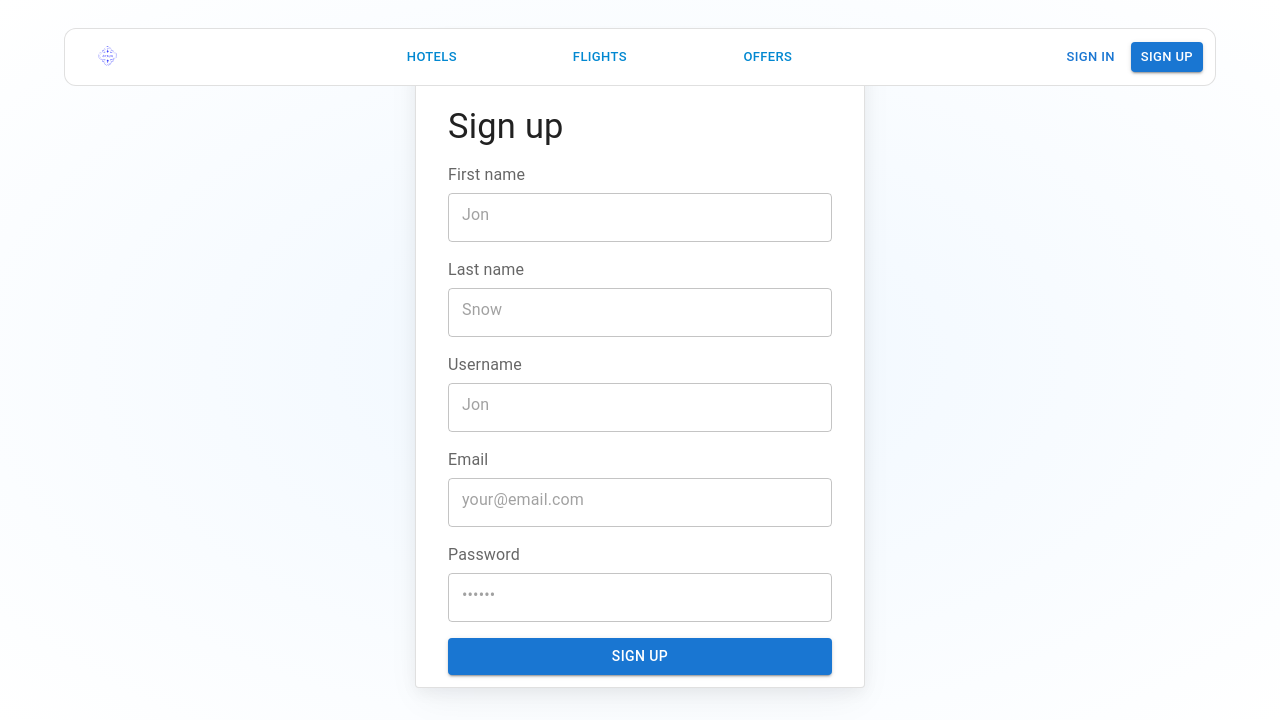
Test: User Sign Up › should display an error when trying to sign up with an existing email
Try to sign up with an already existing email
Type "Eva" into the field named "firstname" at (640, 215), box [448,187,832,243]
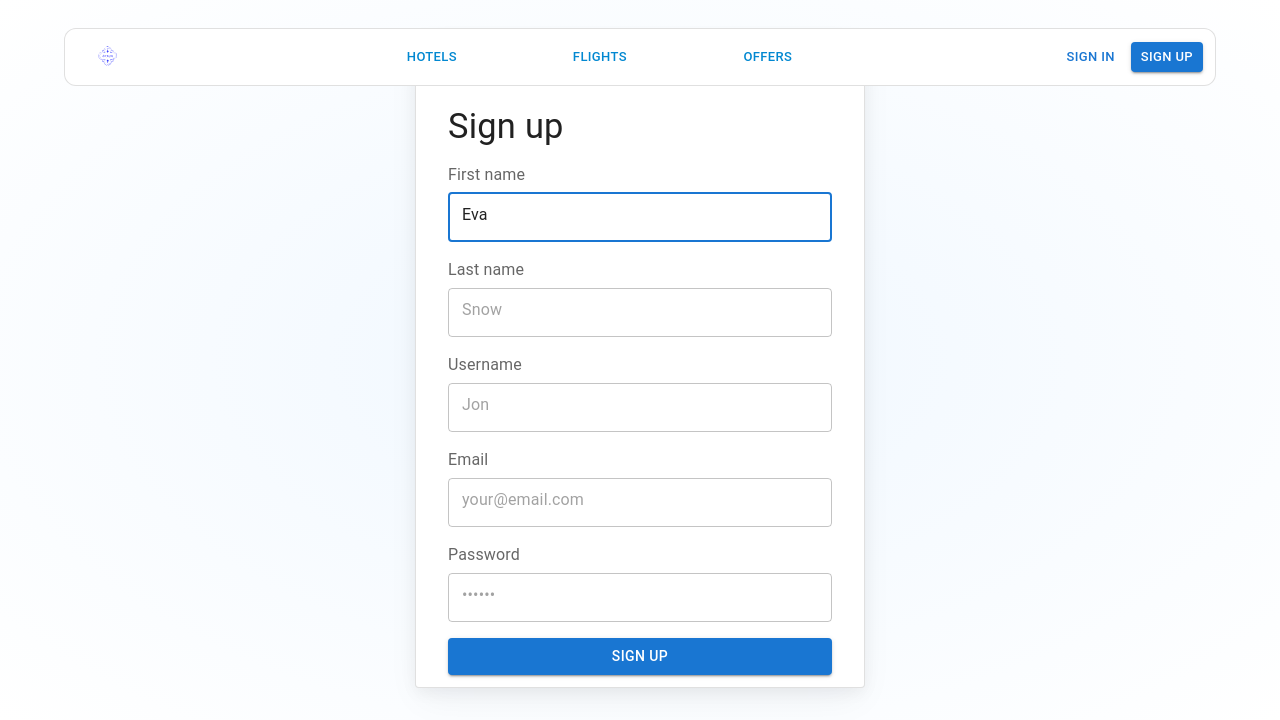
Type "Elfie" into the field named "lastname" at (640, 310), box [448,282,832,338]
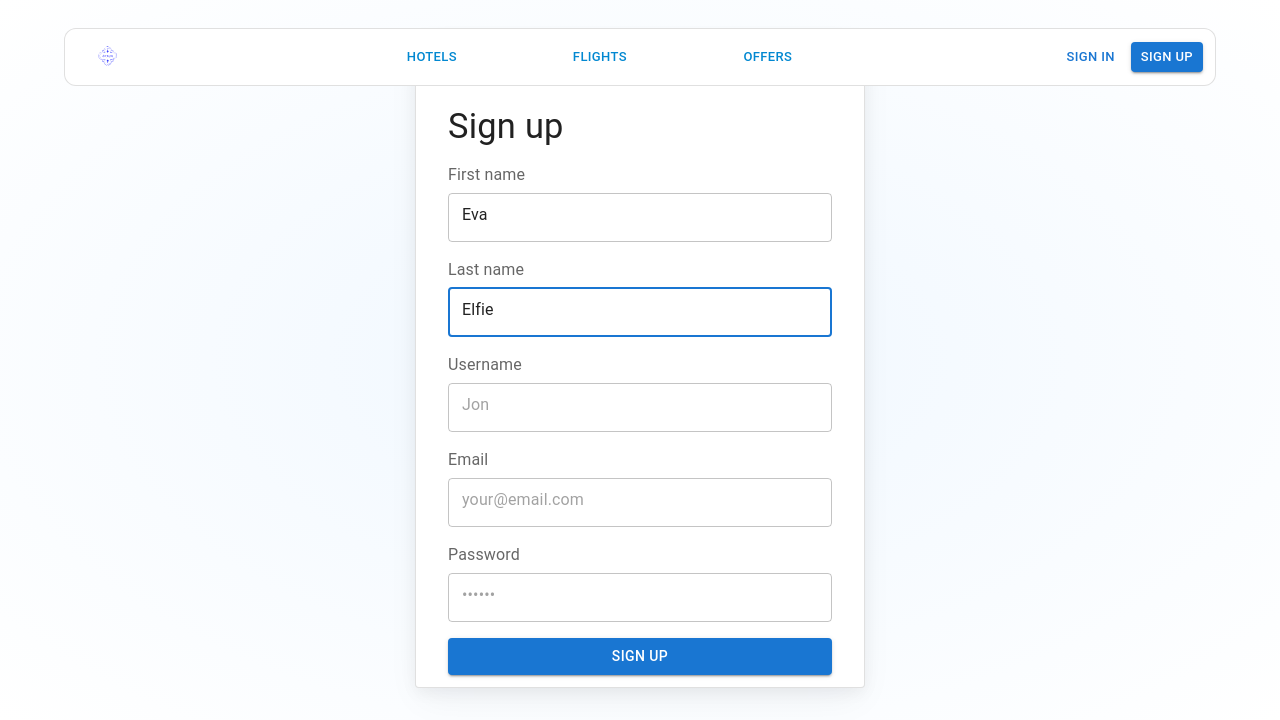
Type "Eva_Elfie" into the field named "pseudo" at (640, 405), box [448,377,832,433]
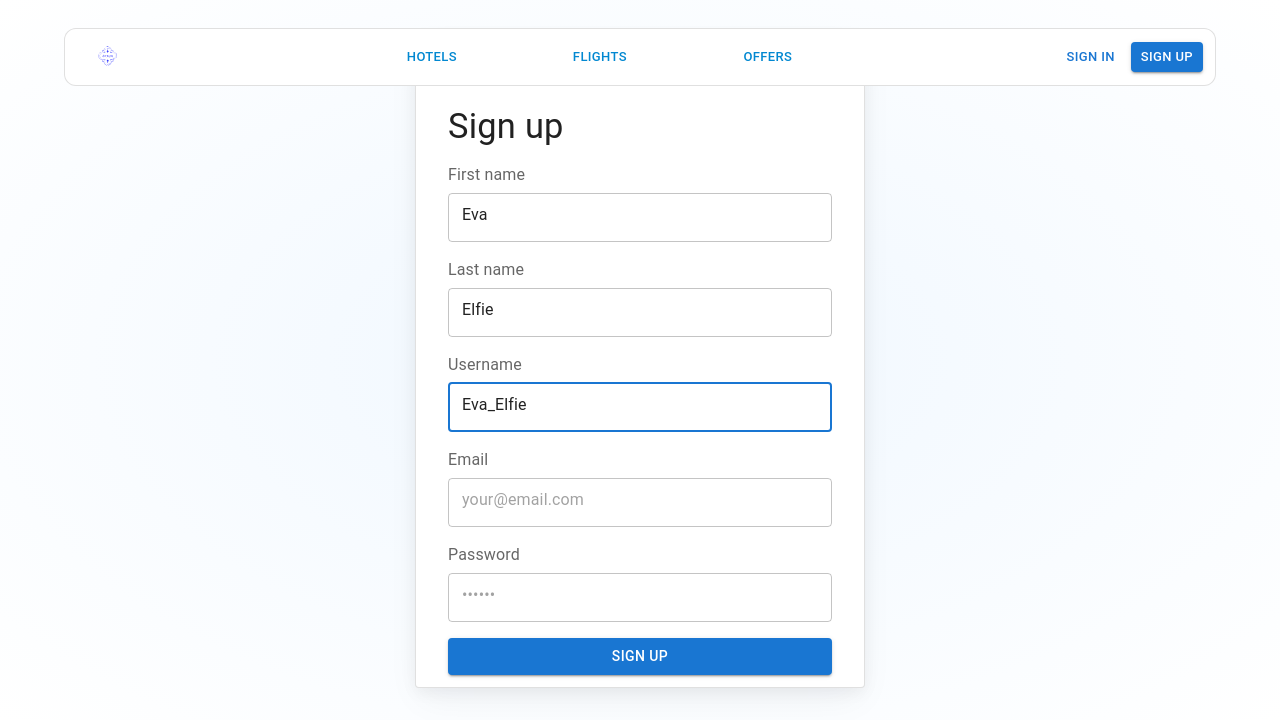
Type "Jhon.snow@example.com" into the field named "email" at (640, 500), box [448,472,832,528]
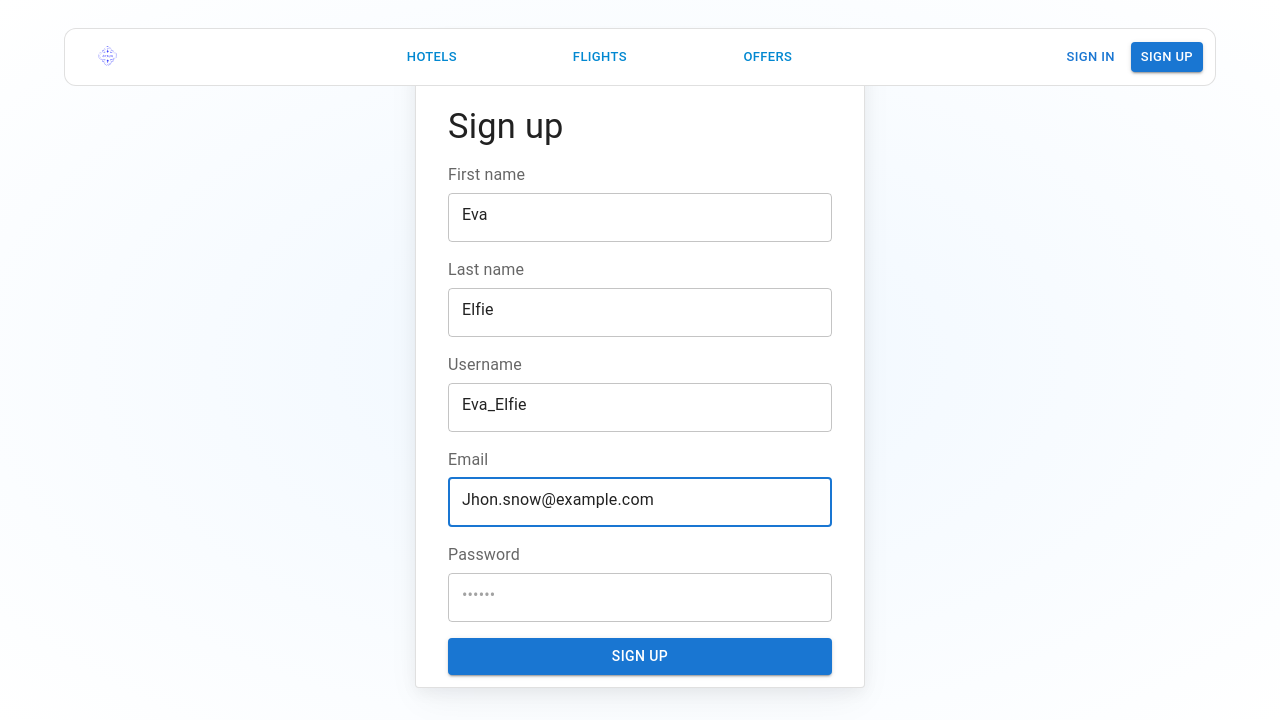
Type "Password123." into the password field named "password" at (640, 595), box [448,567,832,623]
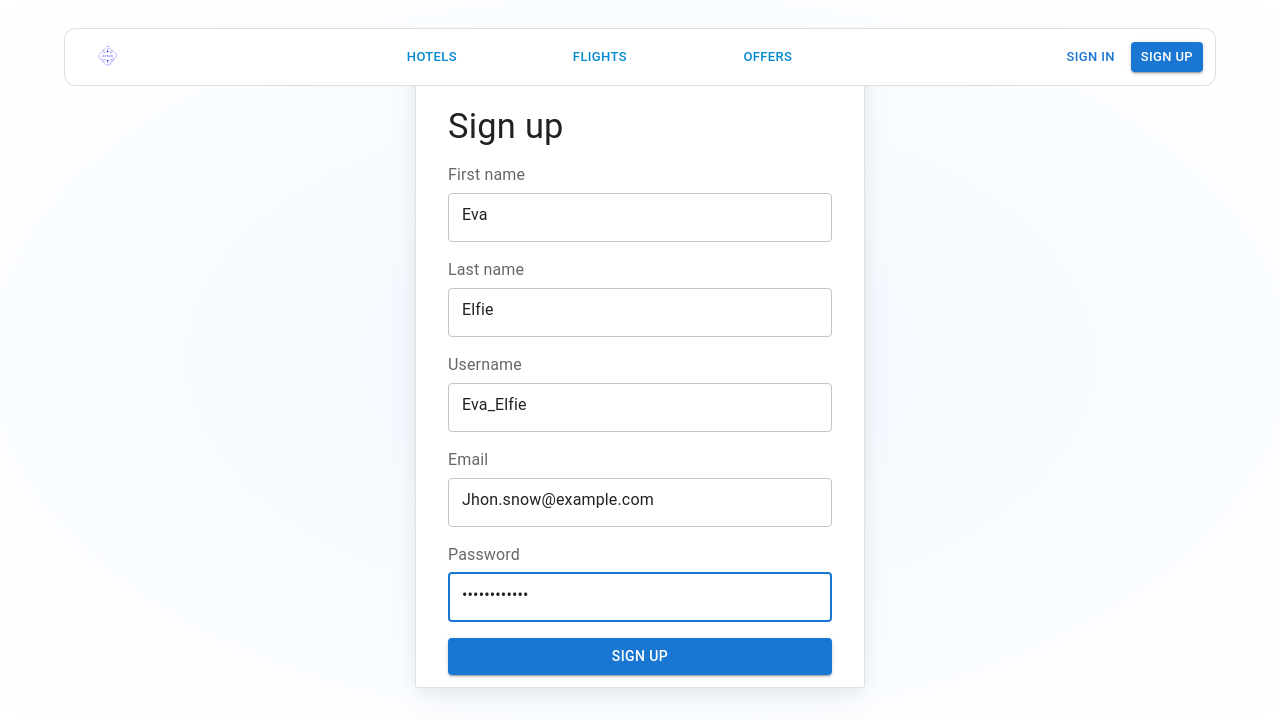
Submit the form
Click the submit button at (640, 658), box [448,639,832,676]
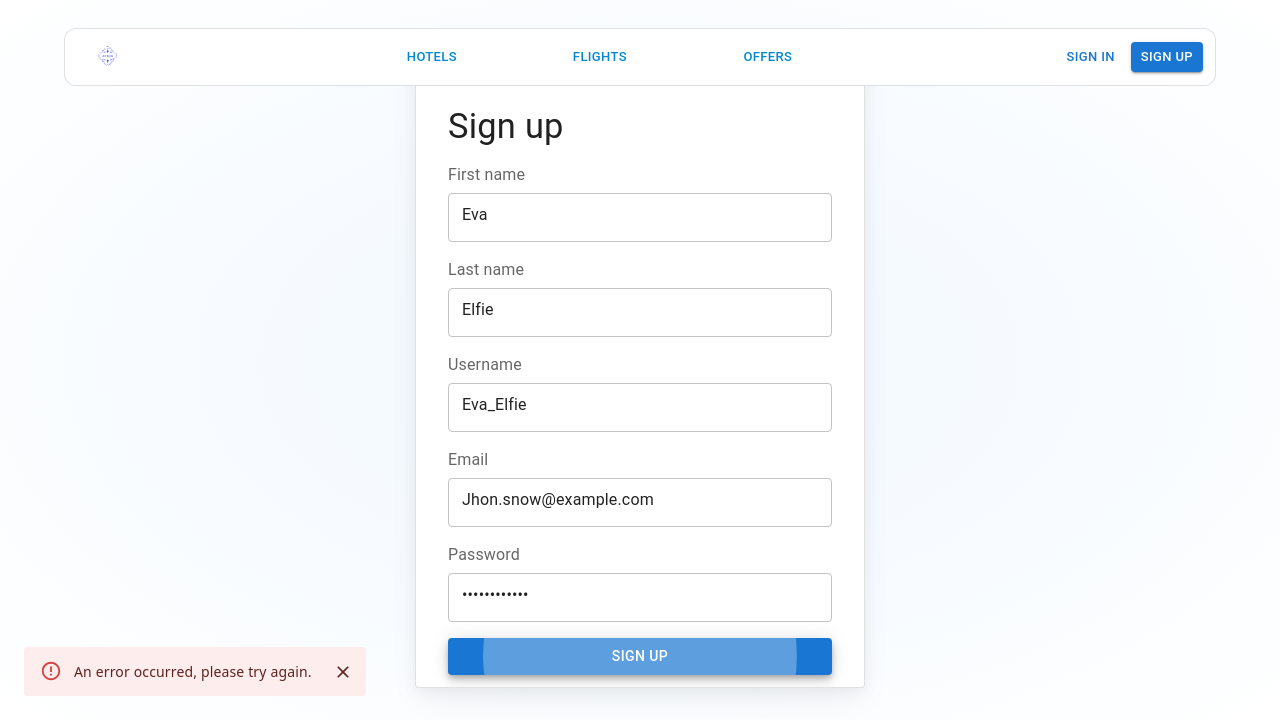
expect the text "An error occurred, please try again." is shown: met, box [74,662,312,681]
